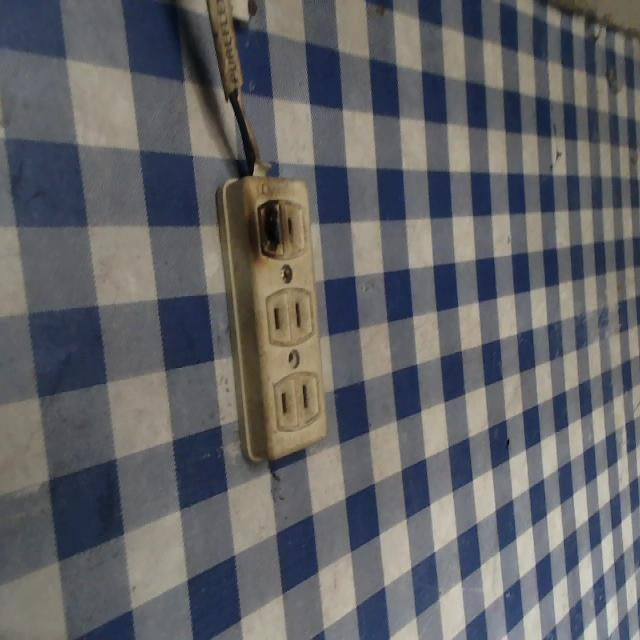-: (248, 190, 290, 266)
